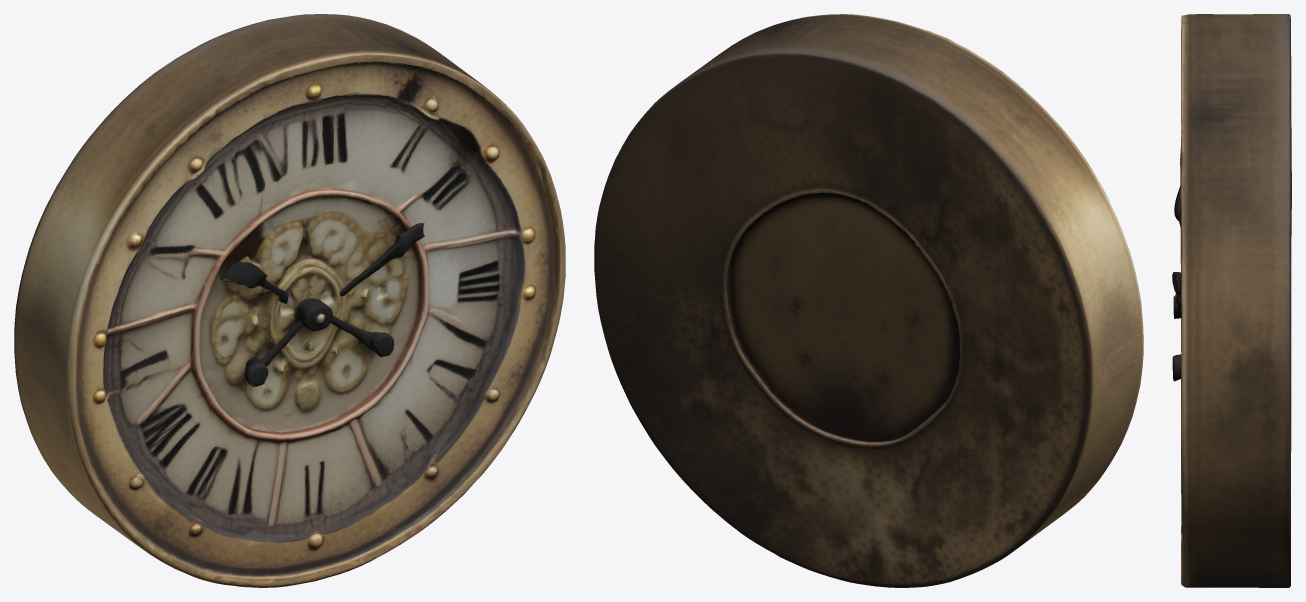
The model's file is wallclock.glb.
3 renders of one model, left to right at view 1: azimuth 30°, elevation 25°; view 2: azimuth 150°, elevation 25°; view 3: azimuth 270°, elevation 25°, orthographic.
Visible parts, largest first — view 1: world; view 2: world; view 3: world.
Part boxes in pixels (x1,y1,x2,y2): world: (14, 14, 565, 587); world: (594, 14, 1143, 587); world: (1172, 14, 1291, 587).
Size of the model in its own units: 0.9996 by 0.9992 by 0.2087.
Materials: 1 (1 with a texture image).
